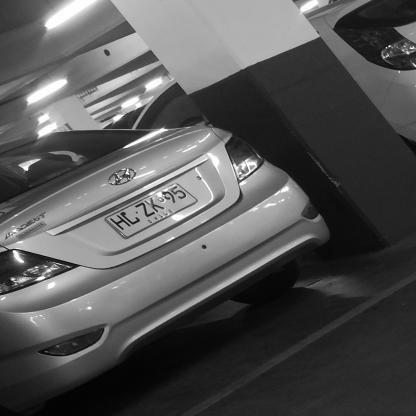Patente: (102, 182, 198, 239)
